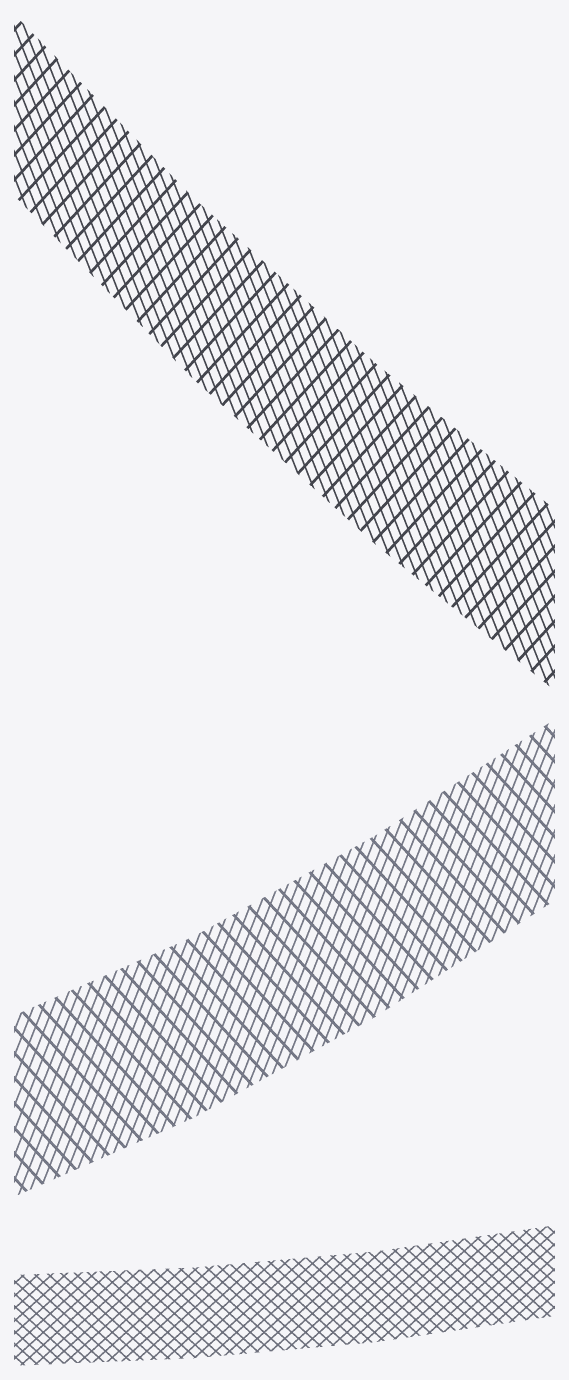
File: SW_ENV_WalledRiserStart_WireFence_Mesh.fbx
3 views of the same model, one above another, from view 1: azimuth 30°, elevation 25°; view 2: azimuth 150°, elevation 25°; view 3: azimuth 270°, elevation 25° (orthographic). The views are drawn at different scales.
Visible parts, largest first — view 1: SW_ENV_WalledRiserStart_WireFence_Mesh; view 2: SW_ENV_WalledRiserStart_WireFence_Mesh; view 3: SW_ENV_WalledRiserStart_WireFence_Mesh.
Part boxes in pixels (x1,y1,x2,y2): SW_ENV_WalledRiserStart_WireFence_Mesh: [14, 21, 554, 685]; SW_ENV_WalledRiserStart_WireFence_Mesh: [14, 723, 554, 1194]; SW_ENV_WalledRiserStart_WireFence_Mesh: [14, 1226, 554, 1365].
Size of the model in its own units: 0.2001 by 281 by 980.
